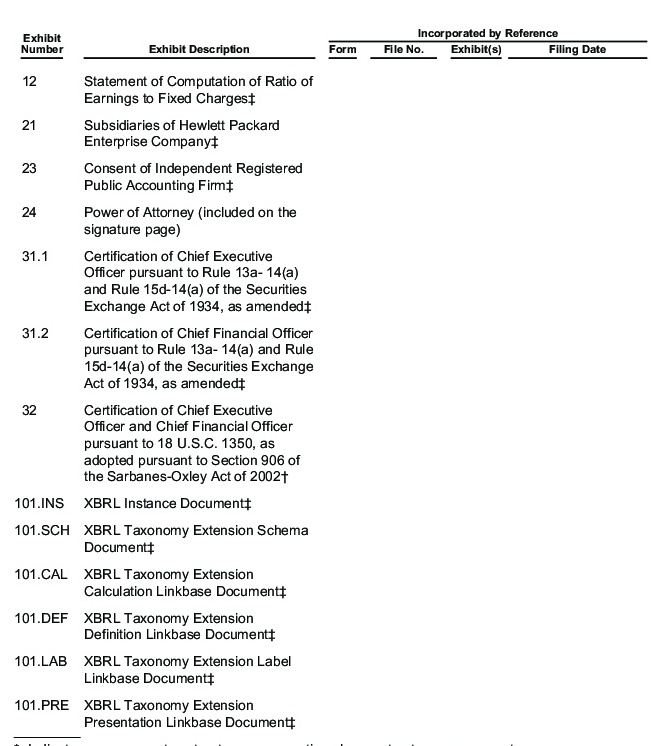table: (0, 0, 666, 746)
